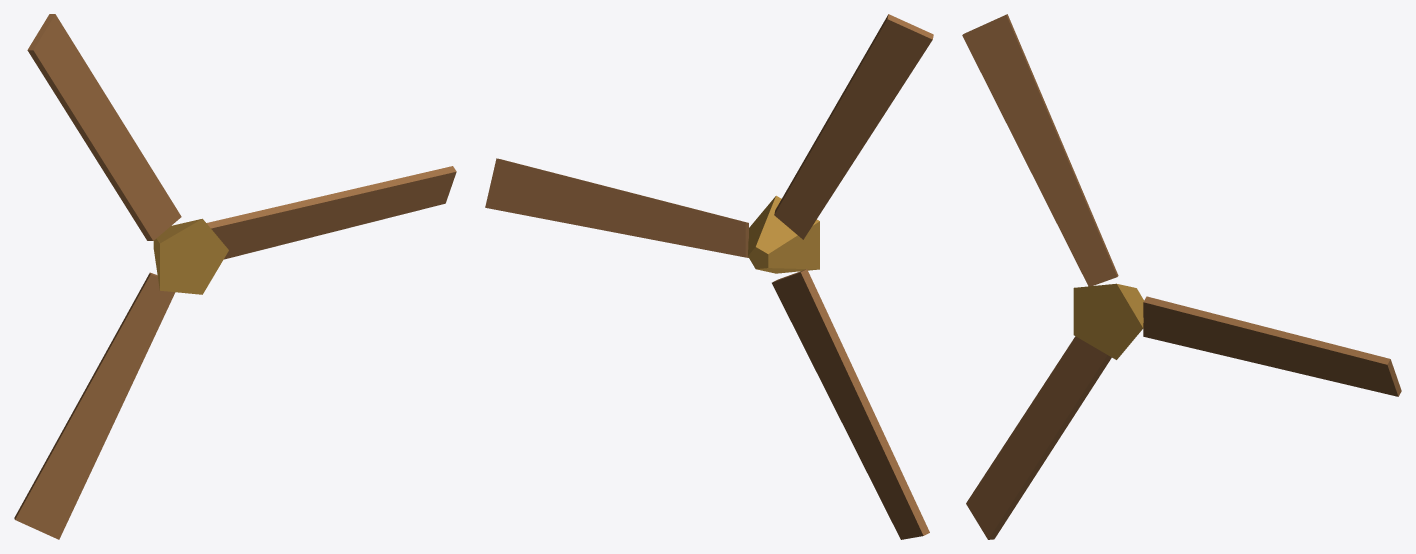
File: SM_Ship_Propeller_LQ.glb
The picture shows the model from 3 angles, left to right: view 1: azimuth 30°, elevation 25°; view 2: azimuth 150°, elevation 25°; view 3: azimuth 330°, elevation 25°; orthographic projection. The views are drawn at different scales.
Parts seen in each view (by area): view 1: SM_Ship_Propeller_LQ; view 2: SM_Ship_Propeller_LQ; view 3: SM_Ship_Propeller_LQ.
Boxes of the visible parts, <box> form: SM_Ship_Propeller_LQ: <box>14,14,456,539</box>; SM_Ship_Propeller_LQ: <box>485,14,933,539</box>; SM_Ship_Propeller_LQ: <box>962,14,1401,539</box>.
Bounding box in the file's own units: 1.57 × 1.81 × 0.18.
Materials: 1 (1 with a texture image).
